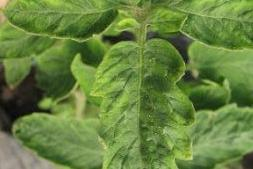Tomato leaf yellow virus: (90, 33, 188, 169), (12, 98, 109, 169), (156, 103, 253, 169), (150, 0, 253, 52), (12, 0, 141, 40)
